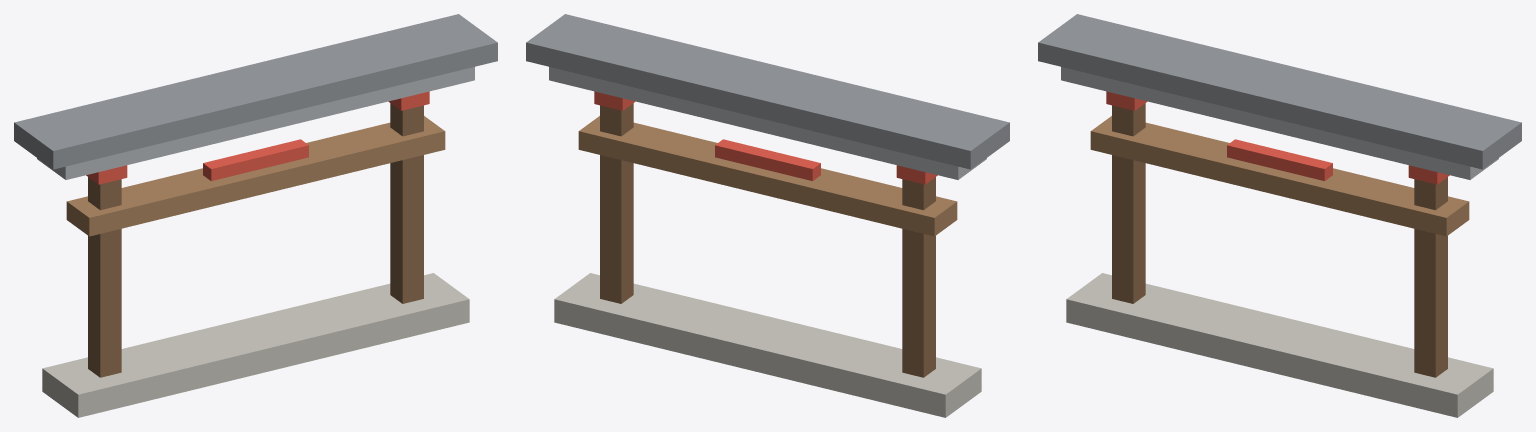
The model's file is voxel-jinan-paifang.gltf.
3 views of the same model, side by side, from view 1: azimuth 30°, elevation 25°; view 2: azimuth 150°, elevation 25°; view 3: azimuth 330°, elevation 25° (orthographic).
Size of the model in its own units: 5 by 2.95 by 0.76.
